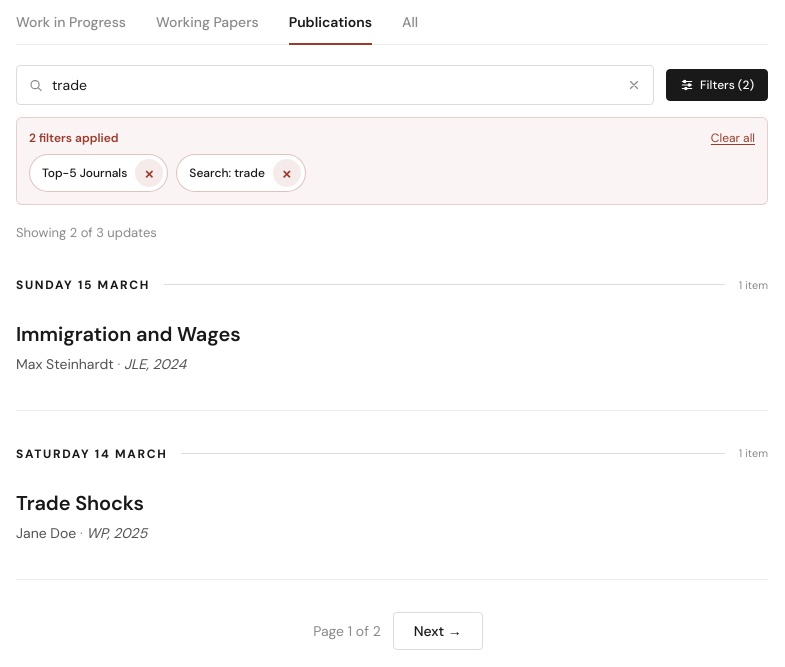
Test: NewsfeedContent › removes only the selected filter when its bubble cross is clicked
Expected: the text "2 filters applied" is shown, [29,130,118,146]
Click the button named "Remove Top-5 Journals": (149, 173) [135,159,163,187]
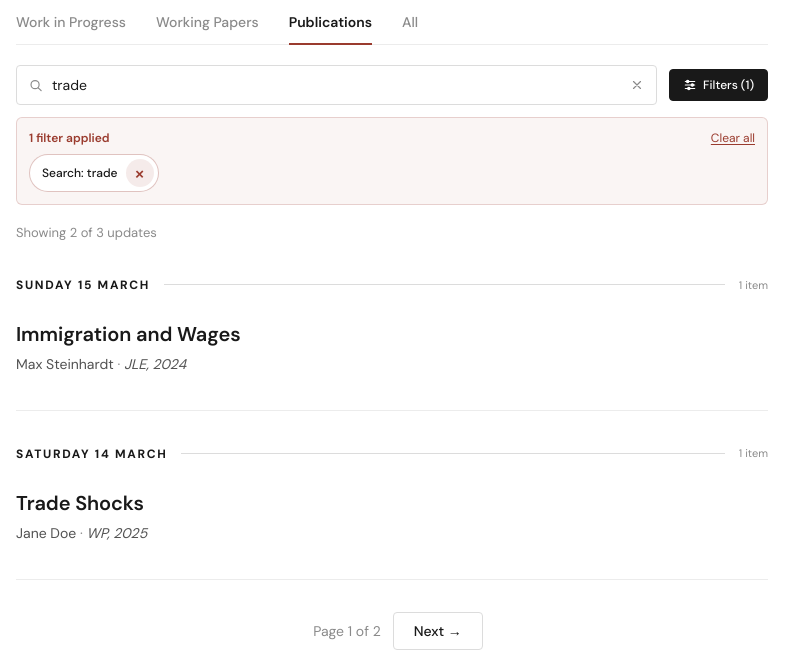
Expected: the button named "Remove Search: trade" is shown, [126,159,154,187]
Expected: the text "1 filter applied" is shown, [29,130,110,146]
